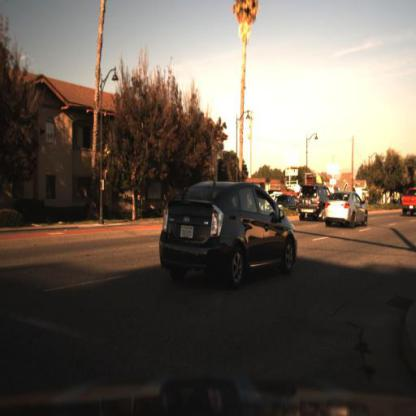car: (158, 177, 302, 293), (326, 190, 370, 230), (271, 193, 302, 214), (402, 184, 416, 219)
